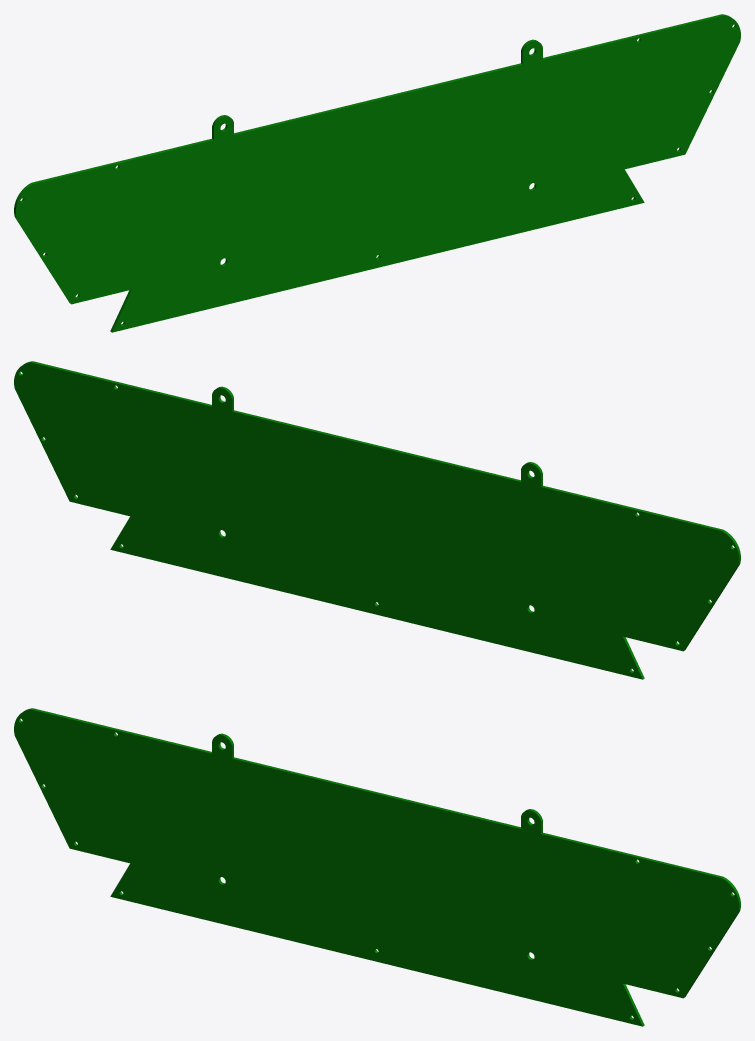
The model's file is Acrylic_cut_out.obj.
The picture shows the model from 3 angles, top to bottom: view 1: azimuth 30°, elevation 25°; view 2: azimuth 150°, elevation 25°; view 3: azimuth 330°, elevation 25°; orthographic projection.
Visible parts, largest first — view 1: mesh863, mesh880; view 2: mesh864, mesh880; view 3: mesh863, mesh880.
Part boxes in pixels (box(x1,y1,x2,y2)): mesh863: box(16, 15, 740, 332); mesh880: box(234, 63, 521, 134); mesh864: box(14, 362, 738, 679); mesh880: box(233, 410, 520, 481); mesh863: box(14, 709, 738, 1026); mesh880: box(233, 757, 520, 828).
Bounding box in the file's own units: 0.7157 × 0.1779 × 0.00317.
